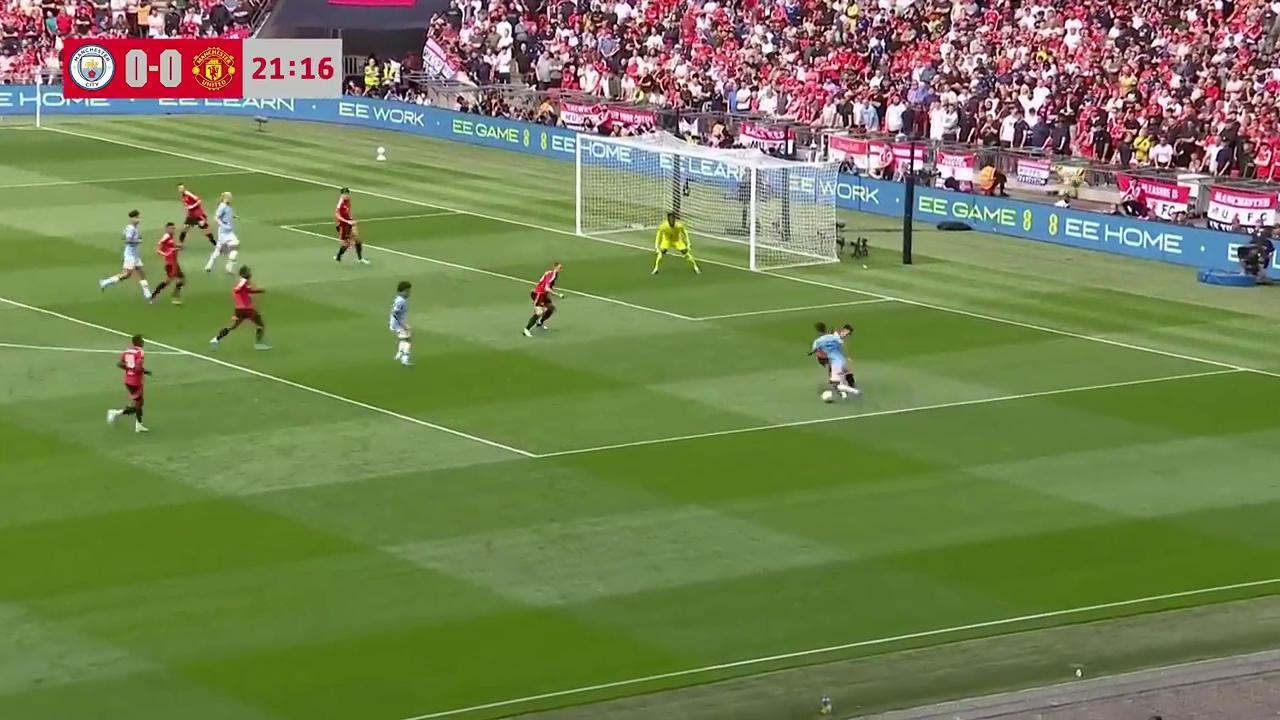ball: (820, 387, 834, 404), (401, 351, 410, 367)
player: (212, 268, 270, 350), (105, 334, 152, 433), (100, 210, 152, 298), (521, 261, 562, 347), (809, 322, 852, 400), (149, 224, 187, 305), (816, 337, 861, 402), (651, 213, 697, 276), (210, 186, 240, 275), (333, 193, 369, 266), (388, 280, 413, 367), (177, 185, 213, 244)
